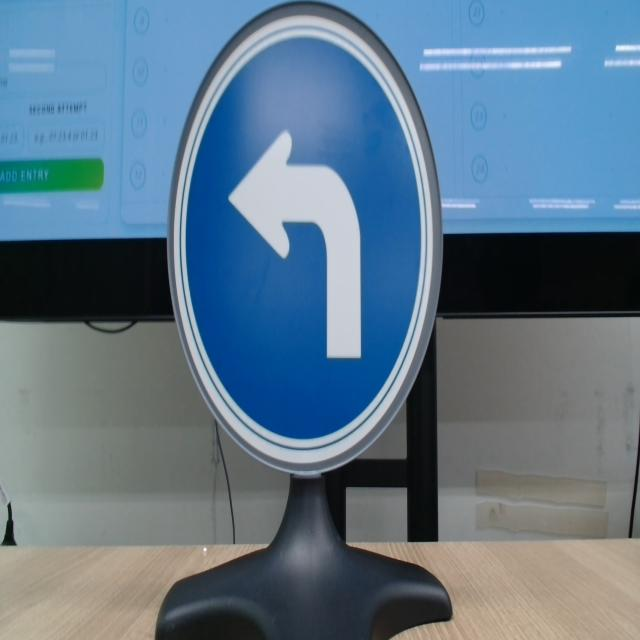left_direction: (157, 0, 461, 489)
